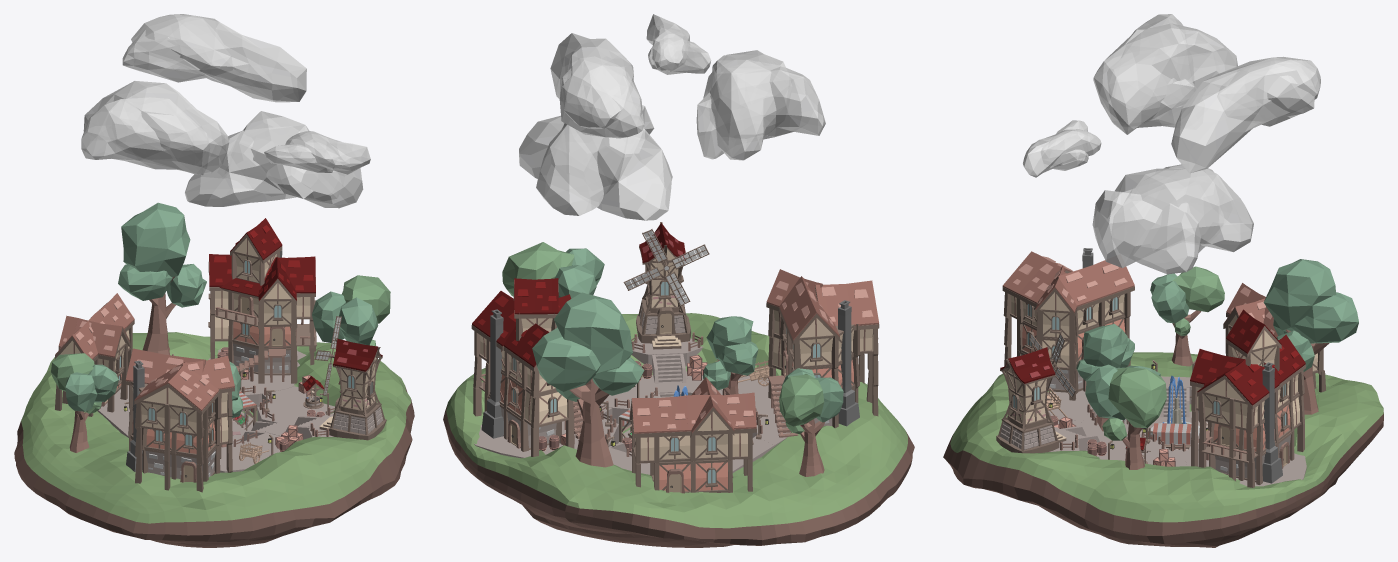
3 views of the same model, side by side, from view 1: azimuth 30°, elevation 25°; view 2: azimuth 150°, elevation 25°; view 3: azimuth 270°, elevation 25° (orthographic). The views are drawn at different scales.
Parts seen in each view (by area): view 1: Plane.1870, Cloud02.001, Cloud01.001, Cloud01, BigTree02.001, BigTree01, BigTree01.001, Cloud02, WallA.037, Windmill_Base01.001, Plane.2624, Roof01.013 (+25 smaller); view 2: Plane.1870, Cloud01, BigTree02.001, Cloud01.001, Cloud02.001, BigTree01.001, BigTree01, BigTree02, Cloud02, Roof01.002, WallA.037, Roof01.013 (+25 smaller); view 3: Plane.1870, Cloud01, Cloud01.001, Cloud02.001, BigTree02.001, BigTree01, BigTree01.001, Cloud02, Roof01.013, BigTree02, WallA.037, Windmill_Base01.001 (+19 smaller).
Part boxes in pixels (x1=…): Plane.1870: x1=14, y1=332, x2=414, y2=547; Cloud02.001: x1=122, y1=14, x2=306, y2=102; Cloud01.001: x1=81, y1=81, x2=229, y2=175; Cloud01: x1=185, y1=111, x2=363, y2=208; BigTree02.001: x1=118, y1=202, x2=206, y2=355; BigTree01: x1=312, y1=275, x2=390, y2=384; BigTree01.001: x1=51, y1=353, x2=118, y2=452; Cloud02: x1=264, y1=131, x2=370, y2=174; WallA.037: x1=134, y1=362, x2=219, y2=414; Windmill_Base01.001: x1=329, y1=400, x2=386, y2=440; Plane.2624: x1=257, y1=392, x2=334, y2=435; Roof01.013: x1=125, y1=348, x2=205, y2=385; Plane.1870: x1=443, y1=313, x2=914, y2=545; Cloud01: x1=519, y1=105, x2=672, y2=220; BigTree02.001: x1=532, y1=292, x2=644, y2=467; Cloud01.001: x1=696, y1=50, x2=825, y2=160; Cloud02.001: x1=550, y1=33, x2=644, y2=138; BigTree01.001: x1=779, y1=368, x2=843, y2=476; BigTree01: x1=502, y1=242, x2=604, y2=298; BigTree02: x1=703, y1=316, x2=758, y2=394; Cloud02: x1=646, y1=14, x2=711, y2=74; Roof01.002: x1=629, y1=395, x2=688, y2=437; WallA.037: x1=815, y1=280, x2=879, y2=330; Roof01.013: x1=779, y1=276, x2=839, y2=344; Plane.1870: x1=943, y1=352, x2=1383, y2=547; Cloud01: x1=1092, y1=164, x2=1253, y2=274; Cloud01.001: x1=1093, y1=14, x2=1237, y2=134; Cloud02.001: x1=1171, y1=56, x2=1320, y2=173; BigTree02.001: x1=1263, y1=259, x2=1358, y2=414; BigTree01: x1=1085, y1=364, x2=1166, y2=469; BigTree01.001: x1=1150, y1=266, x2=1224, y2=366; Cloud02: x1=1023, y1=120, x2=1101, y2=177; Roof01.013: x1=1053, y1=260, x2=1134, y2=310; BigTree02: x1=1076, y1=324, x2=1134, y2=431; WallA.037: x1=1002, y1=251, x2=1072, y2=307; Windmill_Base01.001: x1=996, y1=415, x2=1059, y2=453.
Size of the model in its own units: 11799 by 13145 by 11712.
